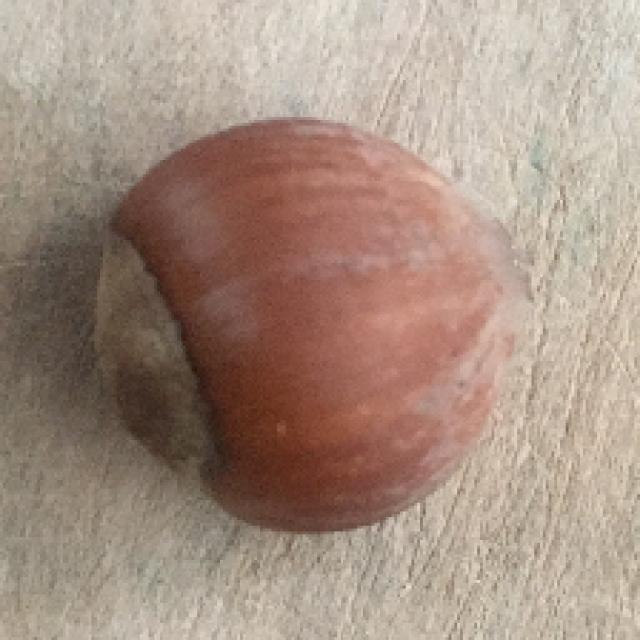qualityHazelnut: (85, 117, 518, 540)
